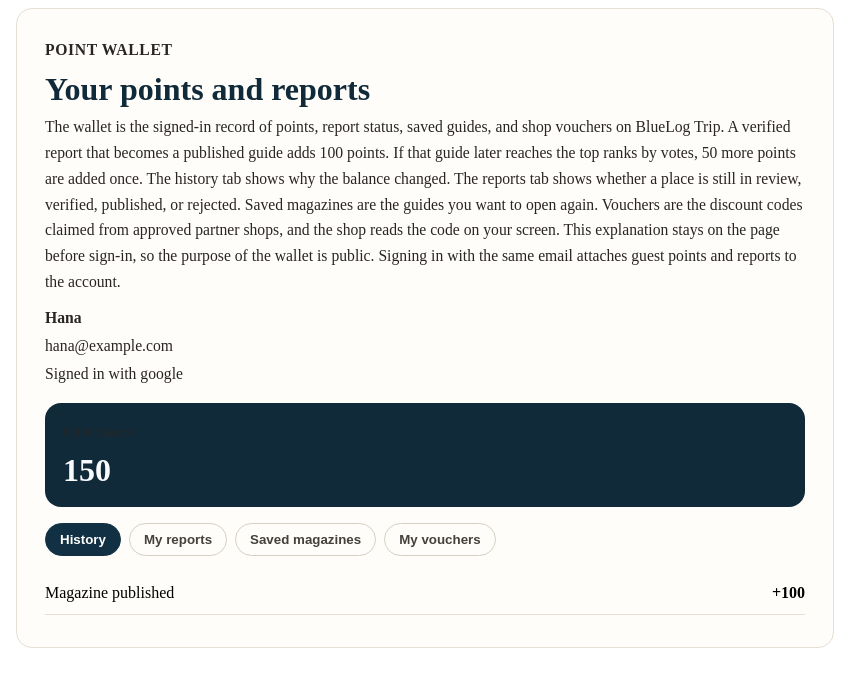
Test: WalletPage › shows the point balance, a report state, and the ledger link
The width and height of the screenshot is (851, 684).
Expected: the text "150" is shown, [63, 452, 111, 488]
Expected: the text "Magazine published" is shown, [45, 584, 174, 602]
Click the tab "My reports". click: (178, 540)
box: [129, 523, 227, 556]
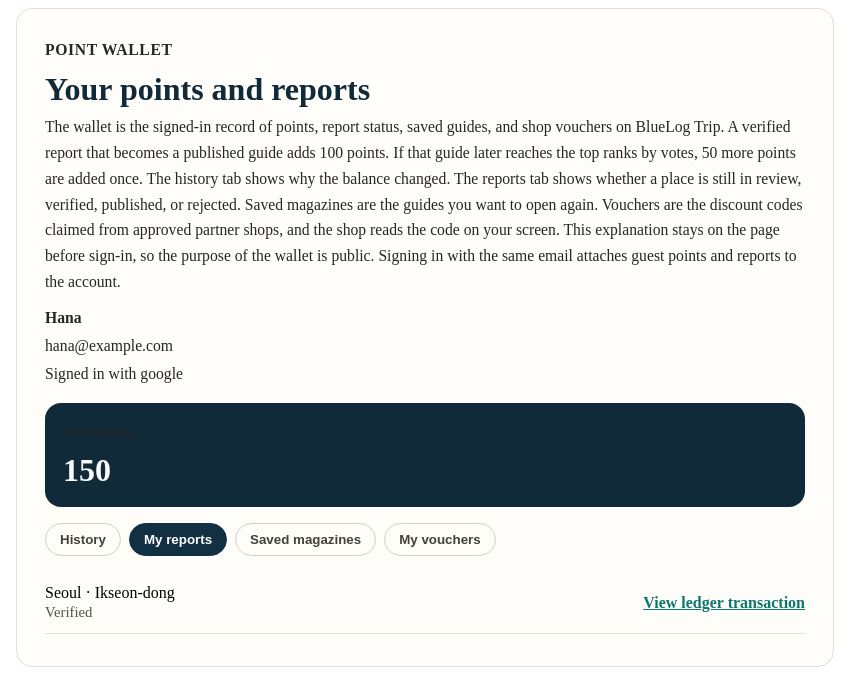
Result: the text "Verified" is shown at [45, 604, 92, 620]
